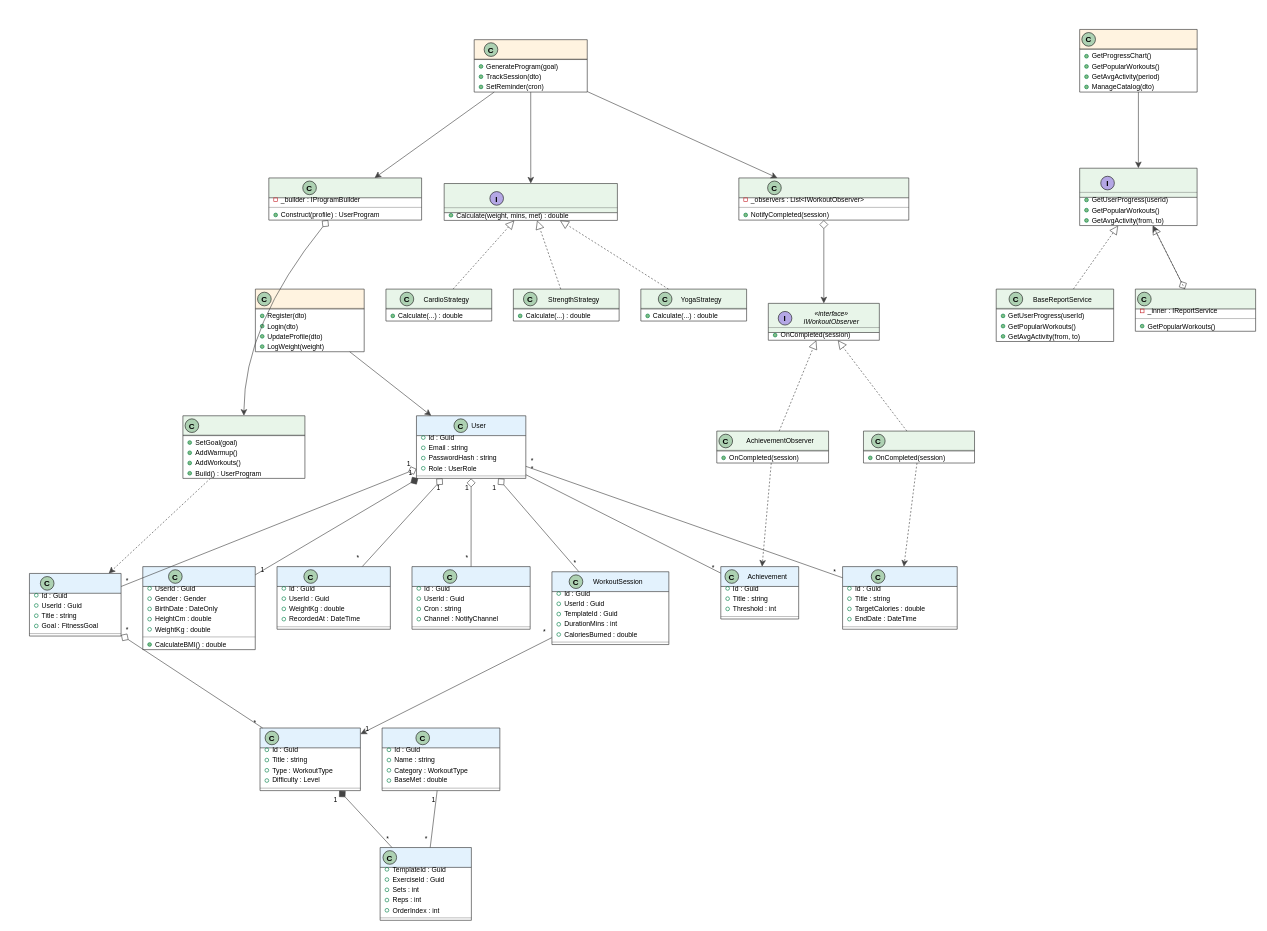
Image size: 1267x931. Some labels were removed from this diagram. Here are the shapes that lost their labels. From the top down, the box of each, then its label:
(474, 39, 587, 92): WorkoutController
(1079, 29, 1197, 92): ReportAdminController
(268, 177, 422, 220): ProgramDirector
(444, 183, 617, 220): «interface» ICalorieStrategy
(738, 177, 909, 220): WorkoutEventPublisher
(1079, 168, 1197, 226): «interface» IReportService
(255, 288, 364, 352): AuthProfileController
(1135, 288, 1256, 331): CachedReportDecorator
(182, 415, 305, 478): StandardProgramBuilder
(863, 430, 975, 463): ChallengeObserver
(29, 573, 121, 636): UserProgram
(142, 566, 255, 650): UserProfile
(276, 566, 390, 629): WeightLog
(411, 566, 530, 629): Reminder
(842, 566, 957, 629): Challenge
(259, 727, 360, 791): WorkoutTemplate
(381, 727, 500, 791): Exercise
(380, 847, 471, 920): WorkoutExercise
